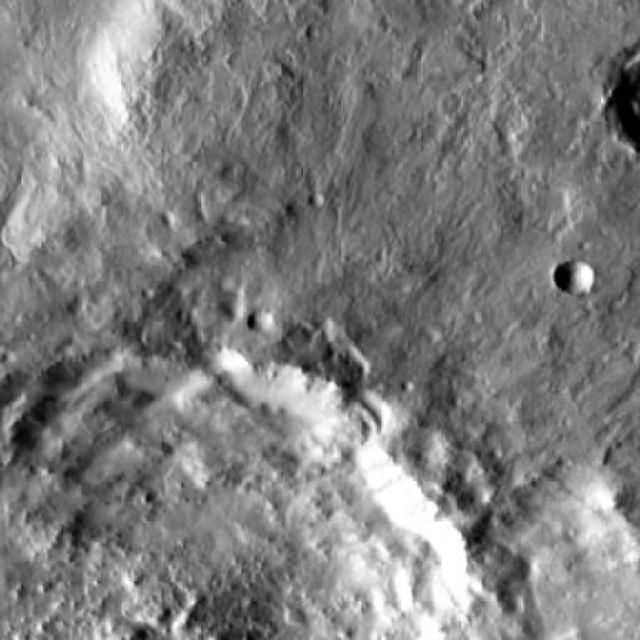crater: (0, 352, 515, 639), (565, 254, 606, 291), (264, 309, 288, 329)
